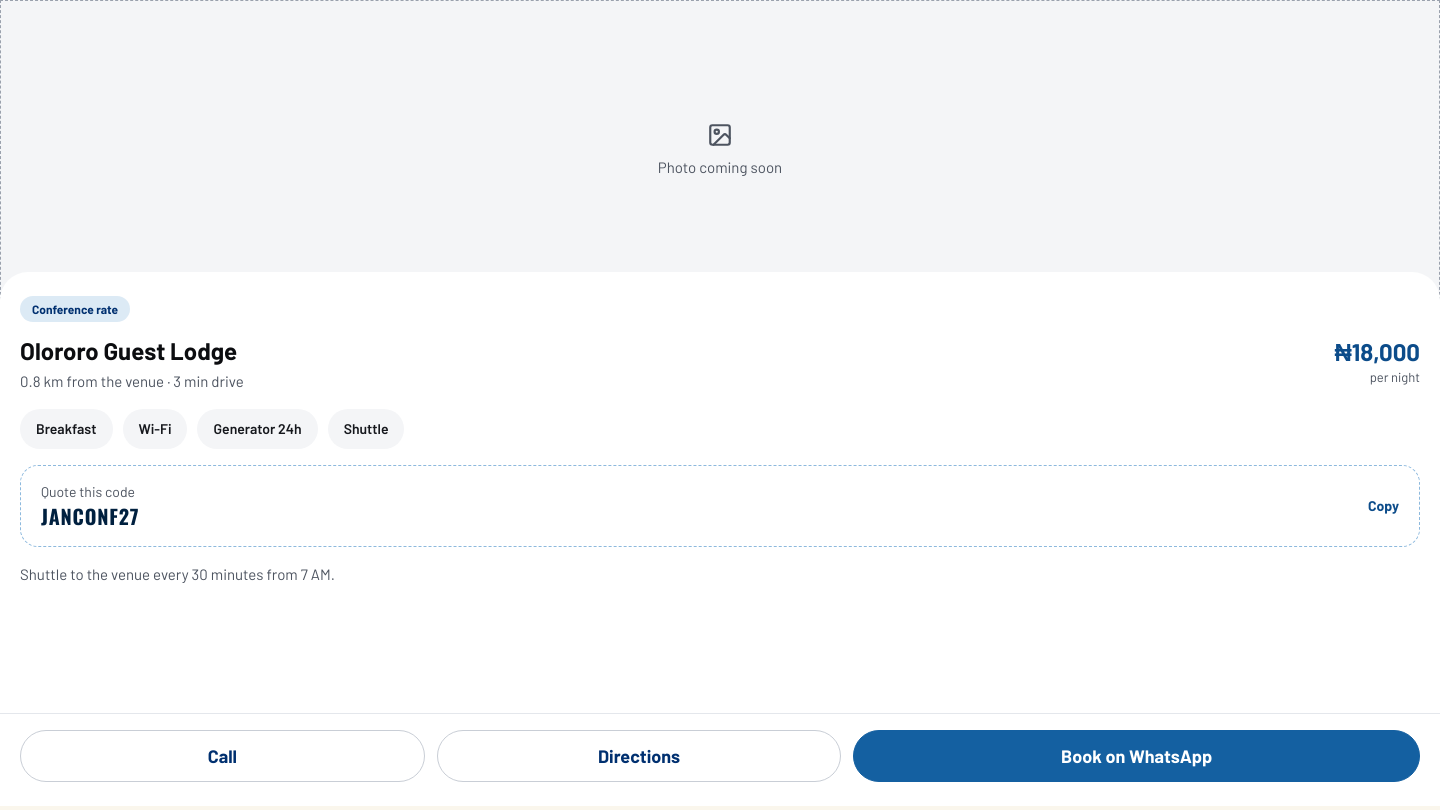
Test case: HotelDetail › says when copying fails
The image size is (1440, 810).
Click the button "Copy": click(1384, 506) [1368,496,1399,516]
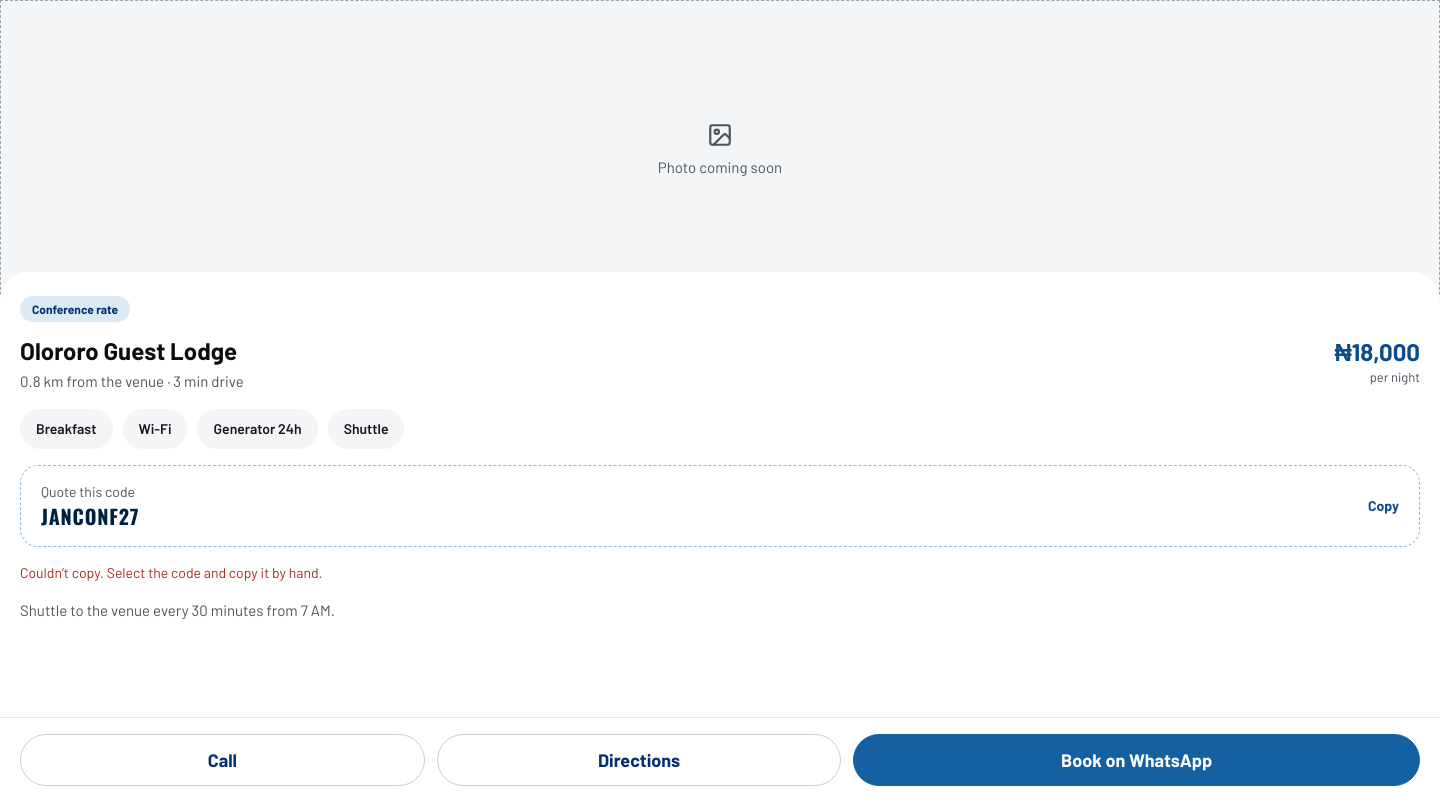
expect the text "Couldn’t copy. Select the code and copy it by hand." is shown: met, box [20,564,322,580]
